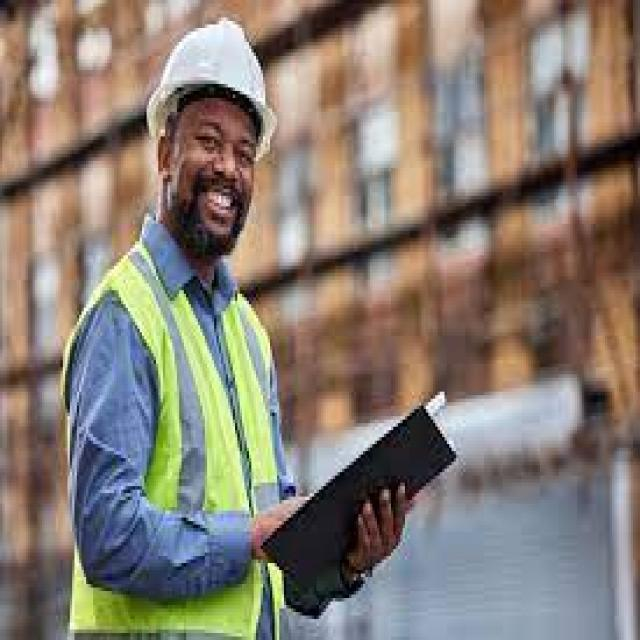reflective_jacket: (60, 251, 295, 629)
safety_helmet: (141, 14, 279, 147)
